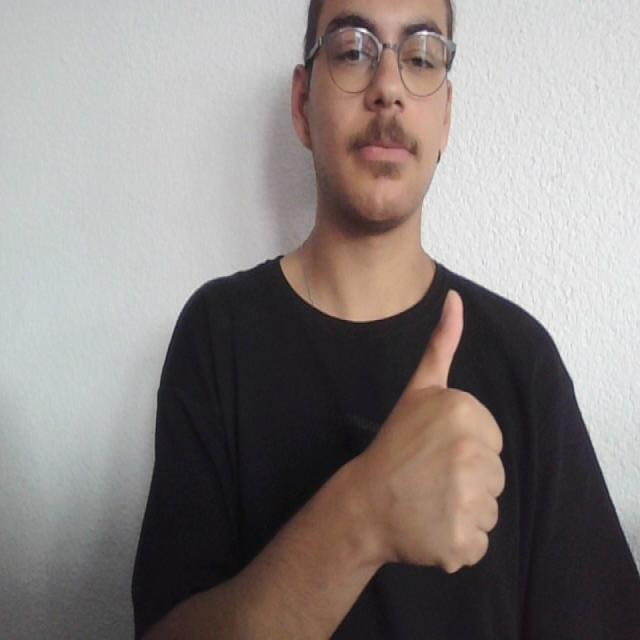Tamam: (358, 284, 512, 580)
